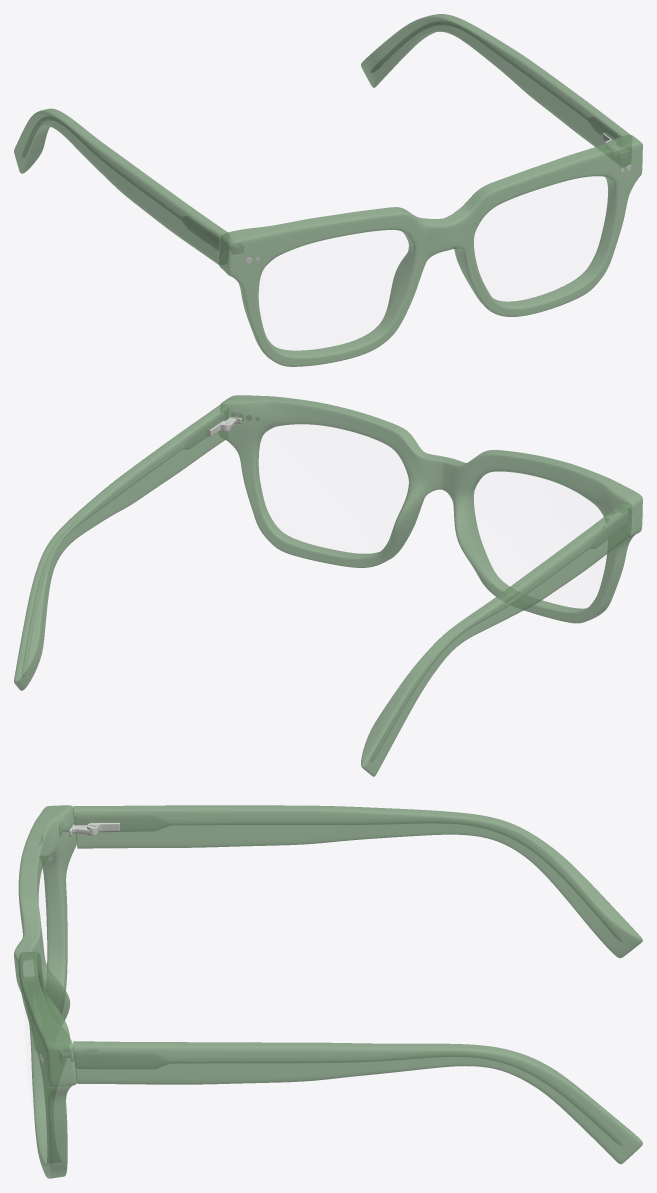
File: winston-opt-sbf-rosemary-crystal_narrow.glb
3 renders of one model, top to bottom at view 1: azimuth 30°, elevation 25°; view 2: azimuth 150°, elevation 25°; view 3: azimuth 270°, elevation 25°, orthographic. The views are drawn at different scales.
Visible parts, largest first — view 1: face_front, left_temple, right_temple, right_temple_sub, left_temple_sub; view 2: face_front, right_temple, left_temple, right_temple_sub, left_temple_sub; view 3: right_temple, left_temple, face_front, left_temple_sub, right_temple_sub.
Boxes of the visible parts, left/top/right/bottom form: face_front: left=218, top=135, right=642, bottom=366; left_temple: left=361, top=14, right=631, bottom=166; right_temple: left=14, top=108, right=228, bottom=264; right_temple_sub: left=22, top=116, right=219, bottom=250; left_temple_sub: left=371, top=21, right=620, bottom=137; face_front: left=219, top=395, right=642, bottom=623; right_temple: left=361, top=502, right=632, bottom=776; left_temple: left=14, top=404, right=229, bottom=690; right_temple_sub: left=371, top=511, right=627, bottom=761; left_temple_sub: left=22, top=412, right=223, bottom=676; right_temple: left=73, top=805, right=642, bottom=958; left_temple: left=73, top=1041, right=642, bottom=1164; face_front: left=14, top=805, right=76, bottom=1178; left_temple_sub: left=75, top=1052, right=621, bottom=1144; right_temple_sub: left=75, top=815, right=621, bottom=941.
Size of the model in its own units: 0.1343 by 0.0459 by 0.1463.
